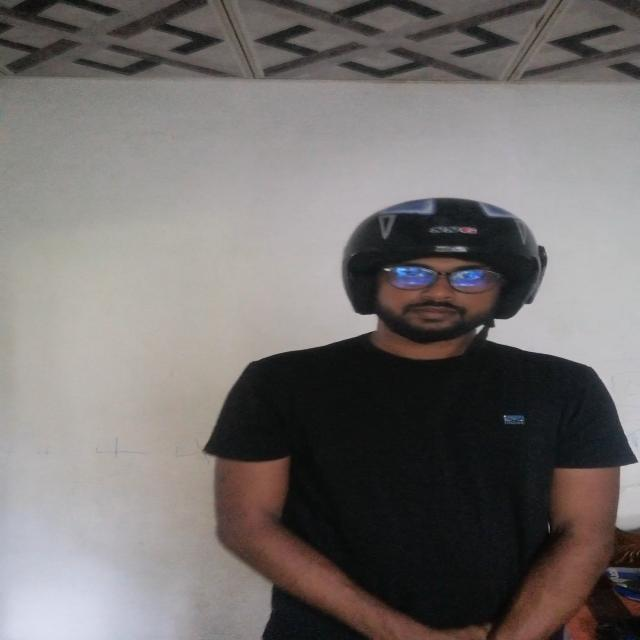Helmet_Wearer: (299, 194, 562, 400)
Person: (217, 197, 634, 640)
